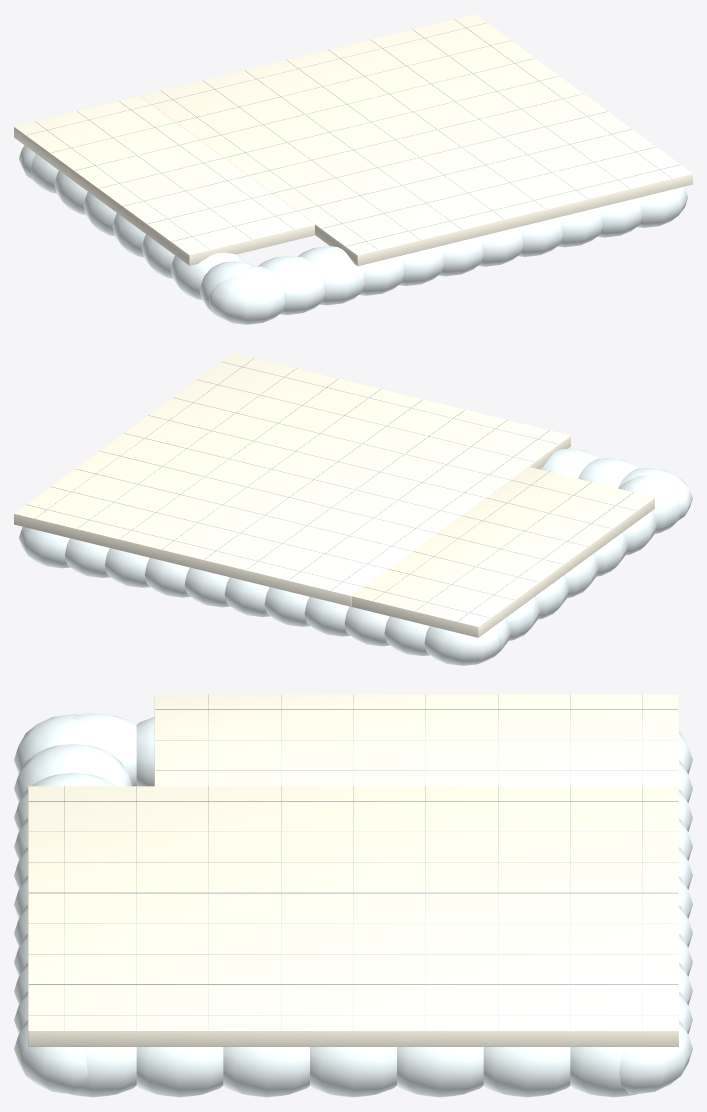
The model's file is sky_sector_city.glb.
3 renders of one model, top to bottom at view 1: azimuth 30°, elevation 25°; view 2: azimuth 150°, elevation 25°; view 3: azimuth 270°, elevation 25°, orthographic. The views are drawn at different scales.
Parts seen in each view (by area): view 1: sky_sector_city_surface; view 2: sky_sector_city_surface; view 3: sky_sector_city_surface.
Boxes of the visible parts, x1=… form: sky_sector_city_surface: x1=14, y1=14, x2=692, y2=324; sky_sector_city_surface: x1=14, y1=353, x2=692, y2=665; sky_sector_city_surface: x1=14, y1=694, x2=692, y2=1097.
Bounding box in the file's own units: 45.04 × 4.97 × 37.56.
